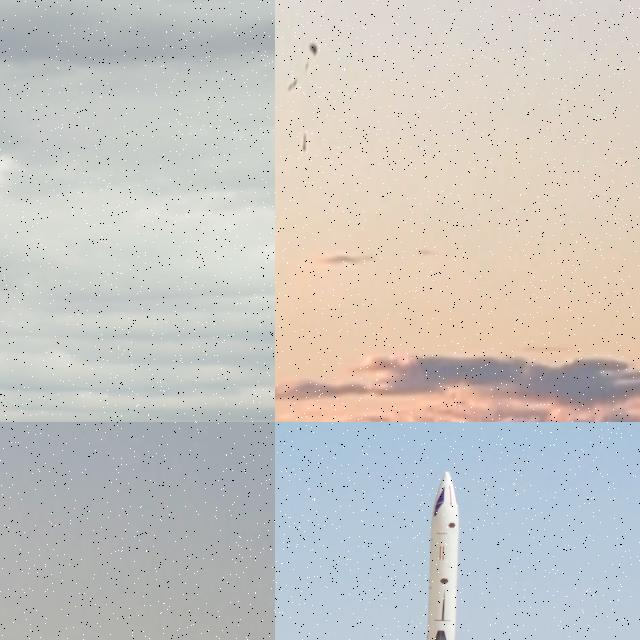Rocket: (387, 468, 488, 640), (302, 132, 307, 152)
